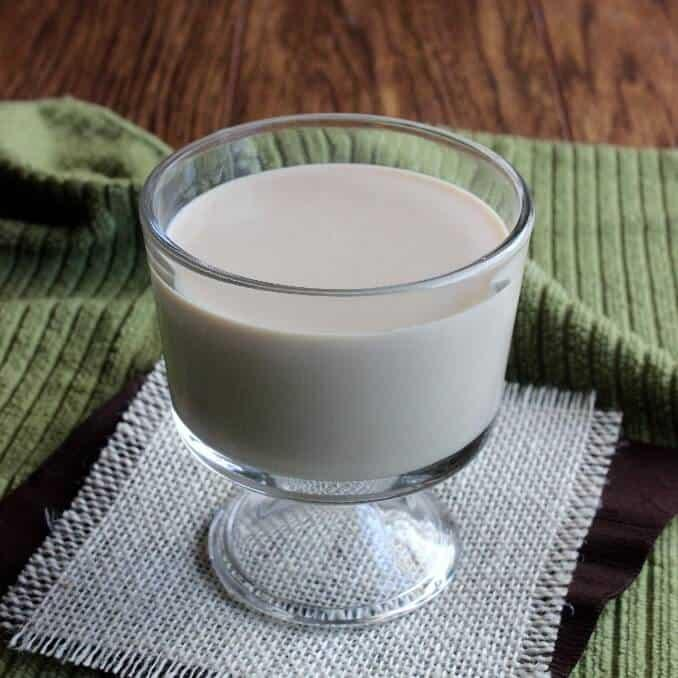produk_susu: (188, 150, 467, 460)
